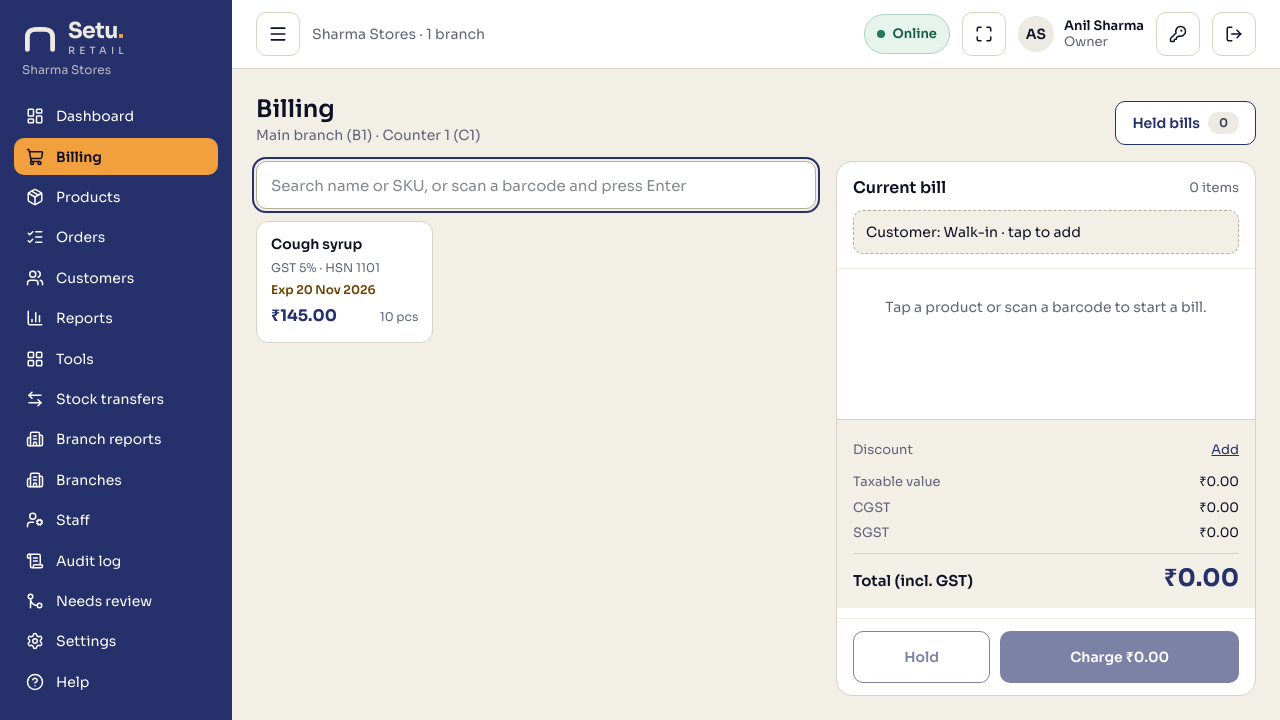
Test: batches at the counter › lets the cashier pick a batch and sends it with the bill
Check: the text "Exp 20 Nov 2026" is shown, box [271, 282, 376, 298]
Step 1. Click the button "Cough syrup GST 5% · HSN 1101 Exp 20 Nov 2026 ₹145.00 10 pcs" → (345, 282), box [256, 221, 433, 342]
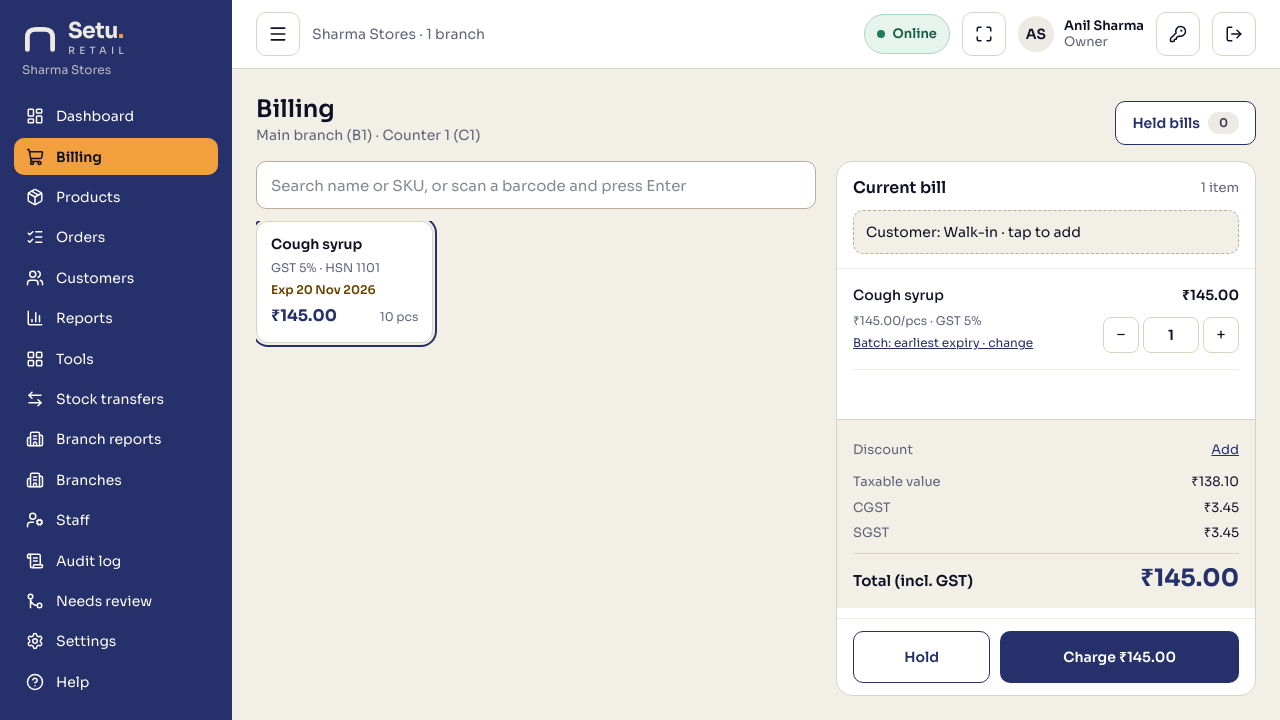
Step 2. Click the button "Batch: earliest expiry · change" → (943, 343), box [853, 329, 1033, 357]
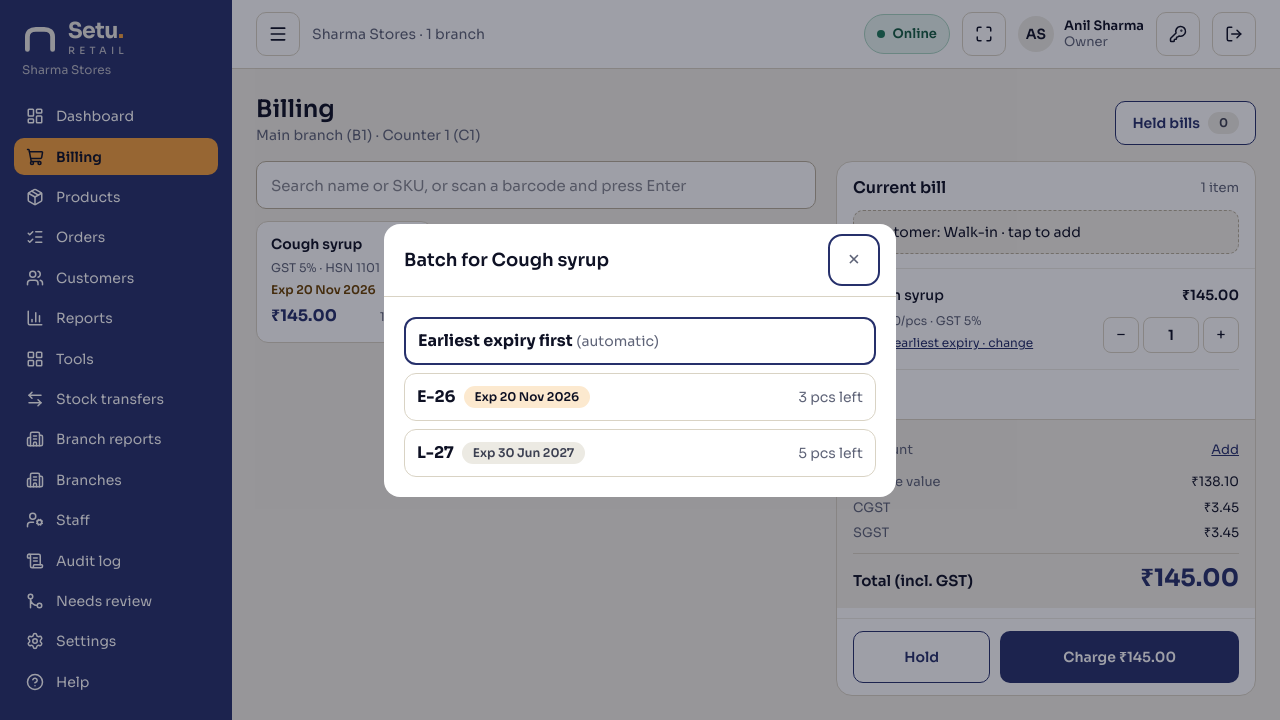
Step 3. Click the button "L-27 Exp 30 Jun 2027 5 pcs left" → (435, 452), box [404, 428, 876, 476]
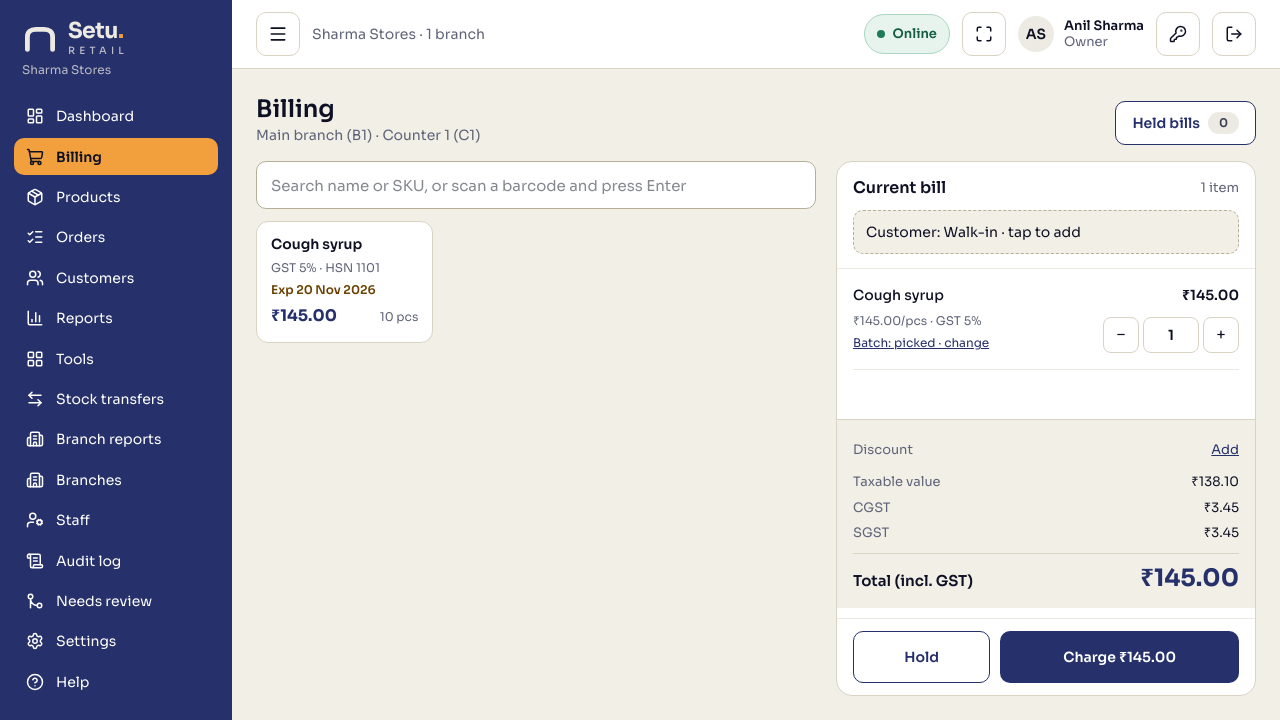
Step 4. Click the button "Charge ₹145.00" → (1120, 657), box [1000, 631, 1239, 683]
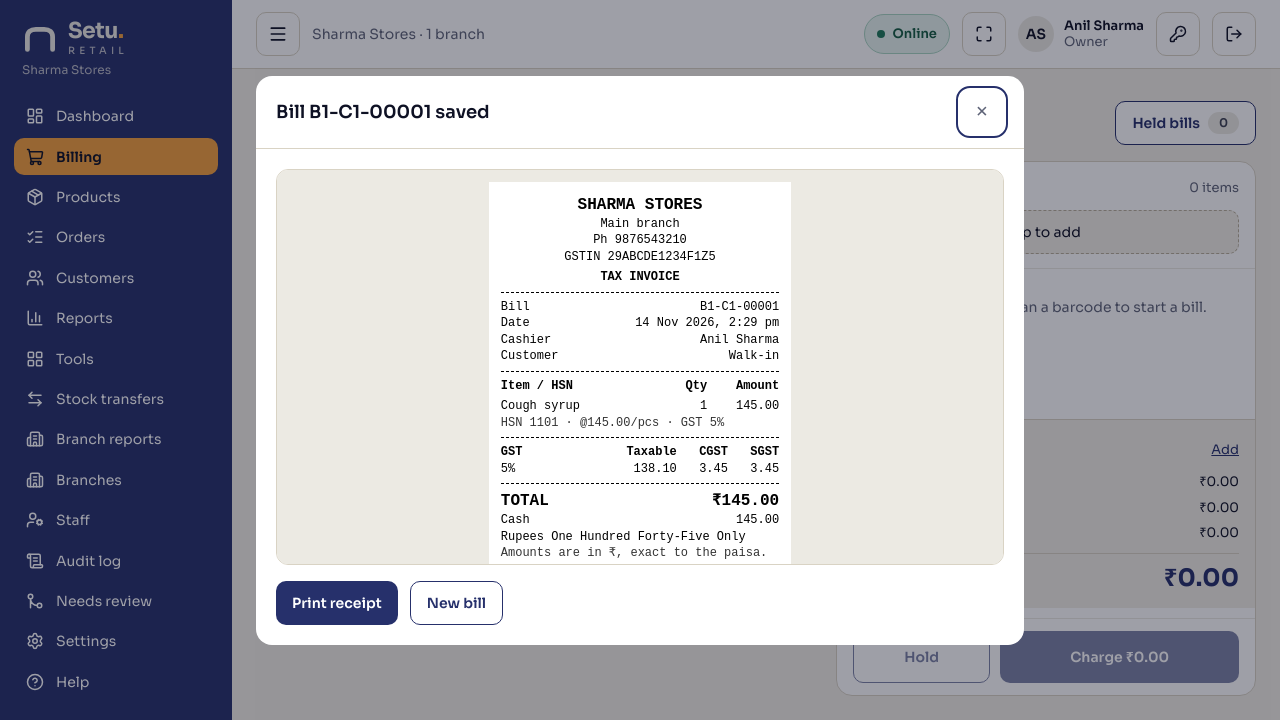
Check: the dialog "saved" is shown, box [256, 76, 1024, 644]
